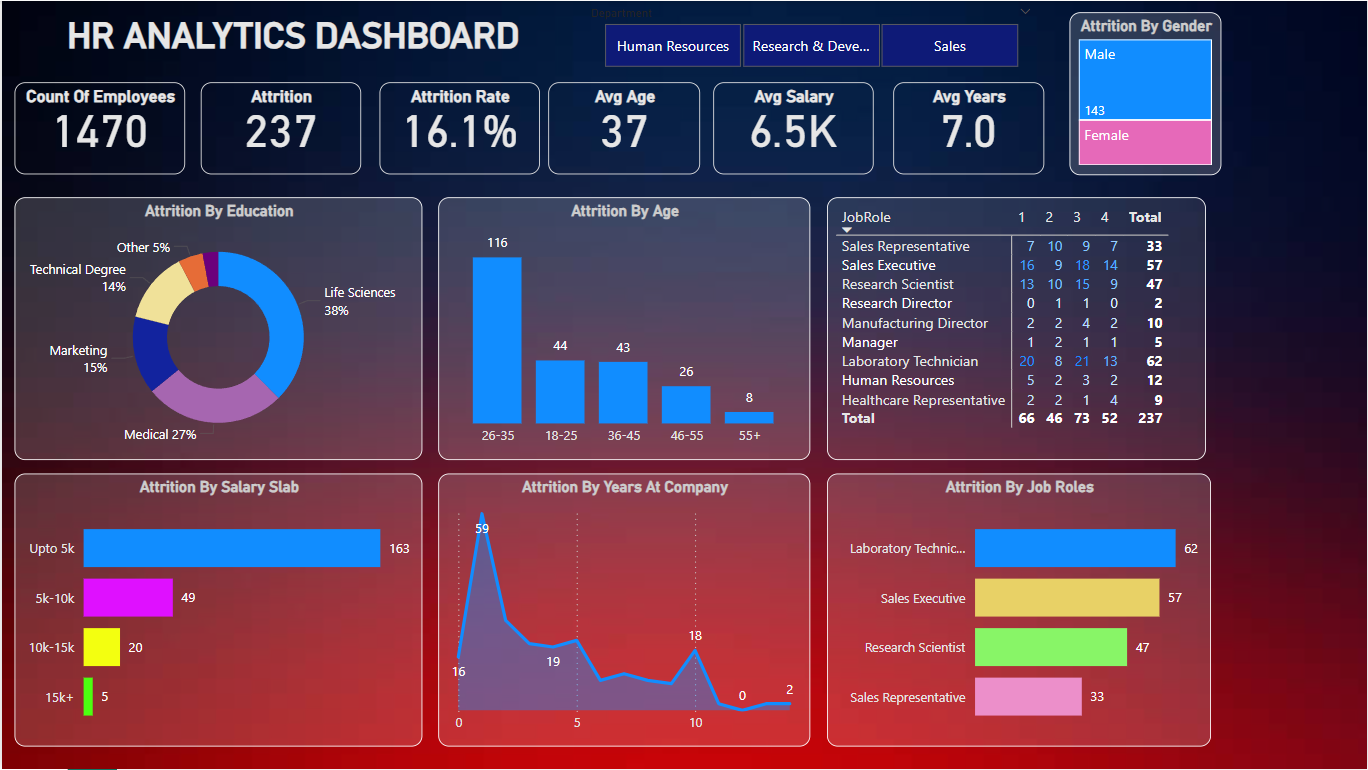

This screenshot's page, from the dashboard's own definition file:
{"tool":"powerbi","page":{"name":"Page 1","canvas":[1280,720],"ordinal":0},"visuals":[{"type":"card","title":"Count Of Employees","fields":{"Values":["CountNonNull(HR_Analytics.EmpID)"]},"box":[11.2,76.2,160,86.2],"z":0},{"type":"card","title":"Attrition","fields":{"Values":["Sum(HR_Analytics.AttritionCount)"]},"box":[186.2,76.2,150,86.2],"z":1000},{"type":"card","title":"Attrition Rate","fields":{"Values":["HR_Analytics.AttritionRate"]},"box":[353.8,76.2,150,86.2],"z":2000},{"type":"card","title":"Avg Age ","fields":{"Values":["Avg(HR_Analytics.Age)"]},"box":[512.5,76.2,142.5,86.2],"z":3000},{"type":"card","title":"Avg Salary","fields":{"Values":["Avg(HR_Analytics.MonthlyIncome)"]},"box":[666.2,76.2,150,86.2],"z":4000},{"type":"card","title":"Avg Years","fields":{"Values":["Avg(HR_Analytics.YearsAtCompany)"]},"box":[835,76.2,141.2,86.2],"z":5000},{"type":"donutChart","title":"Attrition By Education","fields":{"Category":["HR_Analytics.EducationField"],"Y":["Sum(HR_Analytics.AttritionCount)"]},"box":[11.2,183.8,382.5,246.2],"z":6000},{"type":"columnChart","title":"Attrition By Age","fields":{"Category":["HR_Analytics.AgeGroup"],"Y":["Sum(HR_Analytics.AttritionCount)"]},"box":[408.8,183.8,348.8,246.2],"z":7000},{"type":"pivotTable","fields":{"Rows":["HR_Analytics.JobRole"],"Columns":["HR_Analytics.JobSatisfaction"],"Values":["Sum(HR_Analytics.AttritionCount)"]},"box":[773.8,183.8,355,246.2],"z":8000},{"type":"barChart","title":"Attrition By Salary Slab","fields":{"Category":["HR_Analytics.SalarySlab"],"Y":["Sum(HR_Analytics.AttritionCount)"]},"box":[11.2,442.5,382.5,256.2],"z":9000},{"type":"barChart","title":"Attrition By Job Roles","fields":{"Category":["HR_Analytics.JobRole"],"Y":["Sum(HR_Analytics.AttritionCount)"]},"box":[773.8,442.5,360,256.2],"z":9001},{"type":"areaChart","title":"Attrition By Years At Company","fields":{"Category":["HR_Analytics.YearsAtCompany"],"Y":["Sum(HR_Analytics.AttritionCount)"]},"box":[408.8,442.5,348.8,256.2],"z":9002},{"type":"treemap","title":"Attrition By Gender","fields":{"Group":["HR_Analytics.Gender"],"Values":["Sum(HR_Analytics.AttritionCount)"]},"box":[1001.2,10,142.5,152.5],"z":9003},{"type":"slicer","fields":{"Values":["HR_Analytics.Department"]},"box":[538.8,0,437.5,68.8],"z":9004},{"type":"textbox","title":"HR ANALYTICS DASHBOARD","box":[11.2,12.5,522.5,75],"z":9005}]}

Visuals, with their boxes in screenshot pixels (x1, y1, x2, y2), scaled from the page's 1280x720 canvas onto the 1368x770 screenshot:
"Count Of Employees" card: left=12, top=81, right=183, bottom=174
"Attrition" card: left=199, top=81, right=359, bottom=174
"Attrition Rate" card: left=378, top=81, right=538, bottom=174
"Avg Age " card: left=548, top=81, right=700, bottom=174
"Avg Salary" card: left=712, top=81, right=872, bottom=174
"Avg Years" card: left=892, top=81, right=1043, bottom=174
"Attrition By Education" donutChart: left=12, top=197, right=421, bottom=460
"Attrition By Age" columnChart: left=437, top=197, right=810, bottom=460
pivotTable - HR_Analytics.JobRole x HR_Analytics.JobSatisfaction: left=827, top=197, right=1206, bottom=460
"Attrition By Salary Slab" barChart: left=12, top=473, right=421, bottom=747
"Attrition By Job Roles" barChart: left=827, top=473, right=1212, bottom=747
"Attrition By Years At Company" areaChart: left=437, top=473, right=810, bottom=747
"Attrition By Gender" treemap: left=1070, top=11, right=1222, bottom=174
slicer - HR_Analytics.Department: left=576, top=0, right=1043, bottom=74
"HR ANALYTICS DASHBOARD" textbox: left=12, top=13, right=570, bottom=94
